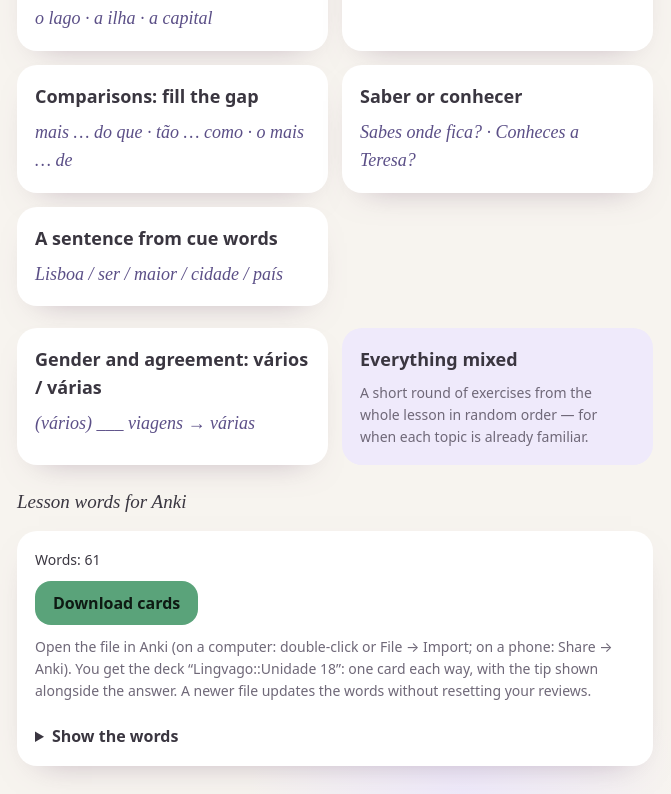
Test: Pack overview › says so when the package cannot be fetched
(page scrolled)
Step 1. Click the button with test id "pack-anki-download" → x=117, y=604, box [35,582,198,626]
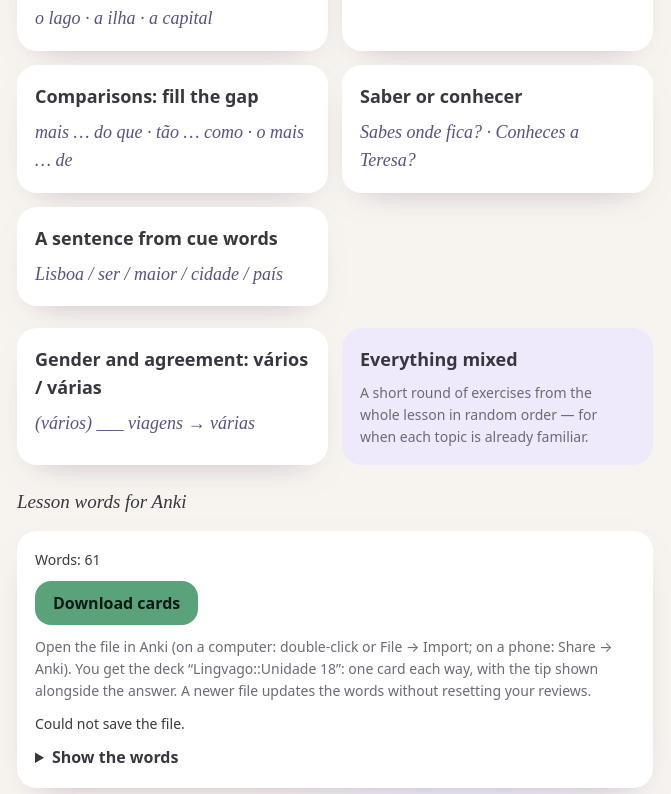
Now the message with test id "pack-anki-status" reads "Could not save the file.", box [35,714,185,732]
